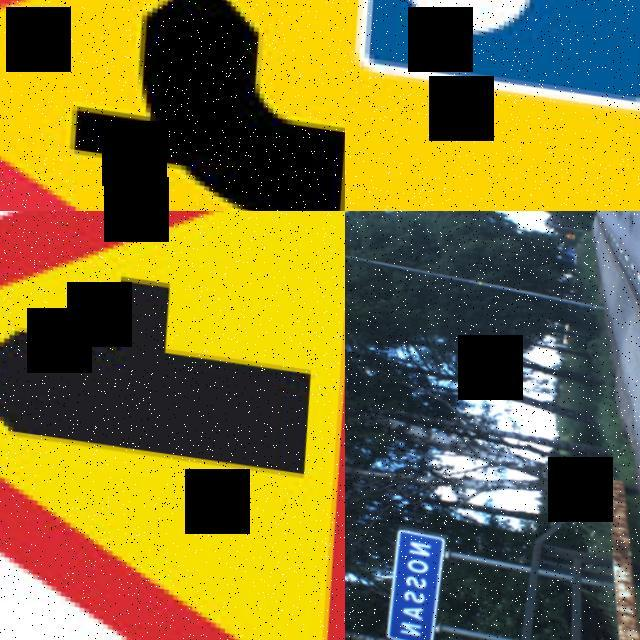166: (0, 211, 345, 640), (0, 0, 345, 211)
88: (362, 522, 449, 640)
Parking allowed for 15min: (345, 0, 640, 211)
